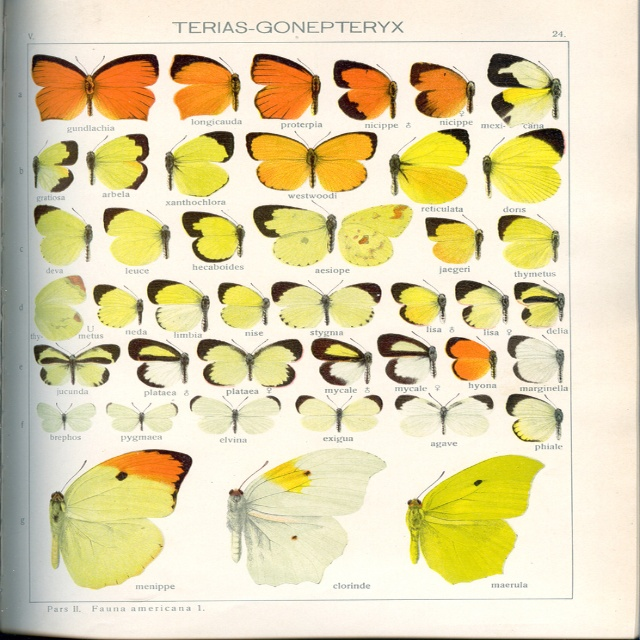Butterfly: (204, 439, 387, 602), (45, 446, 200, 594), (398, 452, 546, 588), (251, 196, 418, 271), (22, 50, 171, 128), (236, 121, 379, 192), (264, 274, 382, 338), (381, 126, 470, 209), (480, 123, 568, 205), (160, 46, 238, 131), (18, 334, 126, 394), (482, 47, 563, 124), (163, 121, 238, 199), (96, 196, 178, 266), (200, 337, 302, 392), (486, 205, 573, 269), (386, 388, 497, 438), (405, 52, 482, 123), (182, 387, 288, 438), (86, 129, 160, 202), (250, 53, 328, 120), (487, 324, 568, 388), (35, 197, 101, 274), (173, 201, 249, 267), (326, 58, 404, 122), (141, 274, 215, 335), (209, 270, 279, 331), (419, 206, 489, 267), (303, 330, 372, 391), (367, 328, 445, 381), (501, 385, 570, 443), (294, 391, 387, 434), (122, 335, 192, 392), (382, 277, 458, 328), (450, 276, 512, 332), (25, 139, 80, 202), (86, 277, 150, 331), (437, 332, 502, 384), (102, 395, 183, 436), (507, 276, 568, 329), (40, 391, 95, 442), (40, 273, 80, 341)
